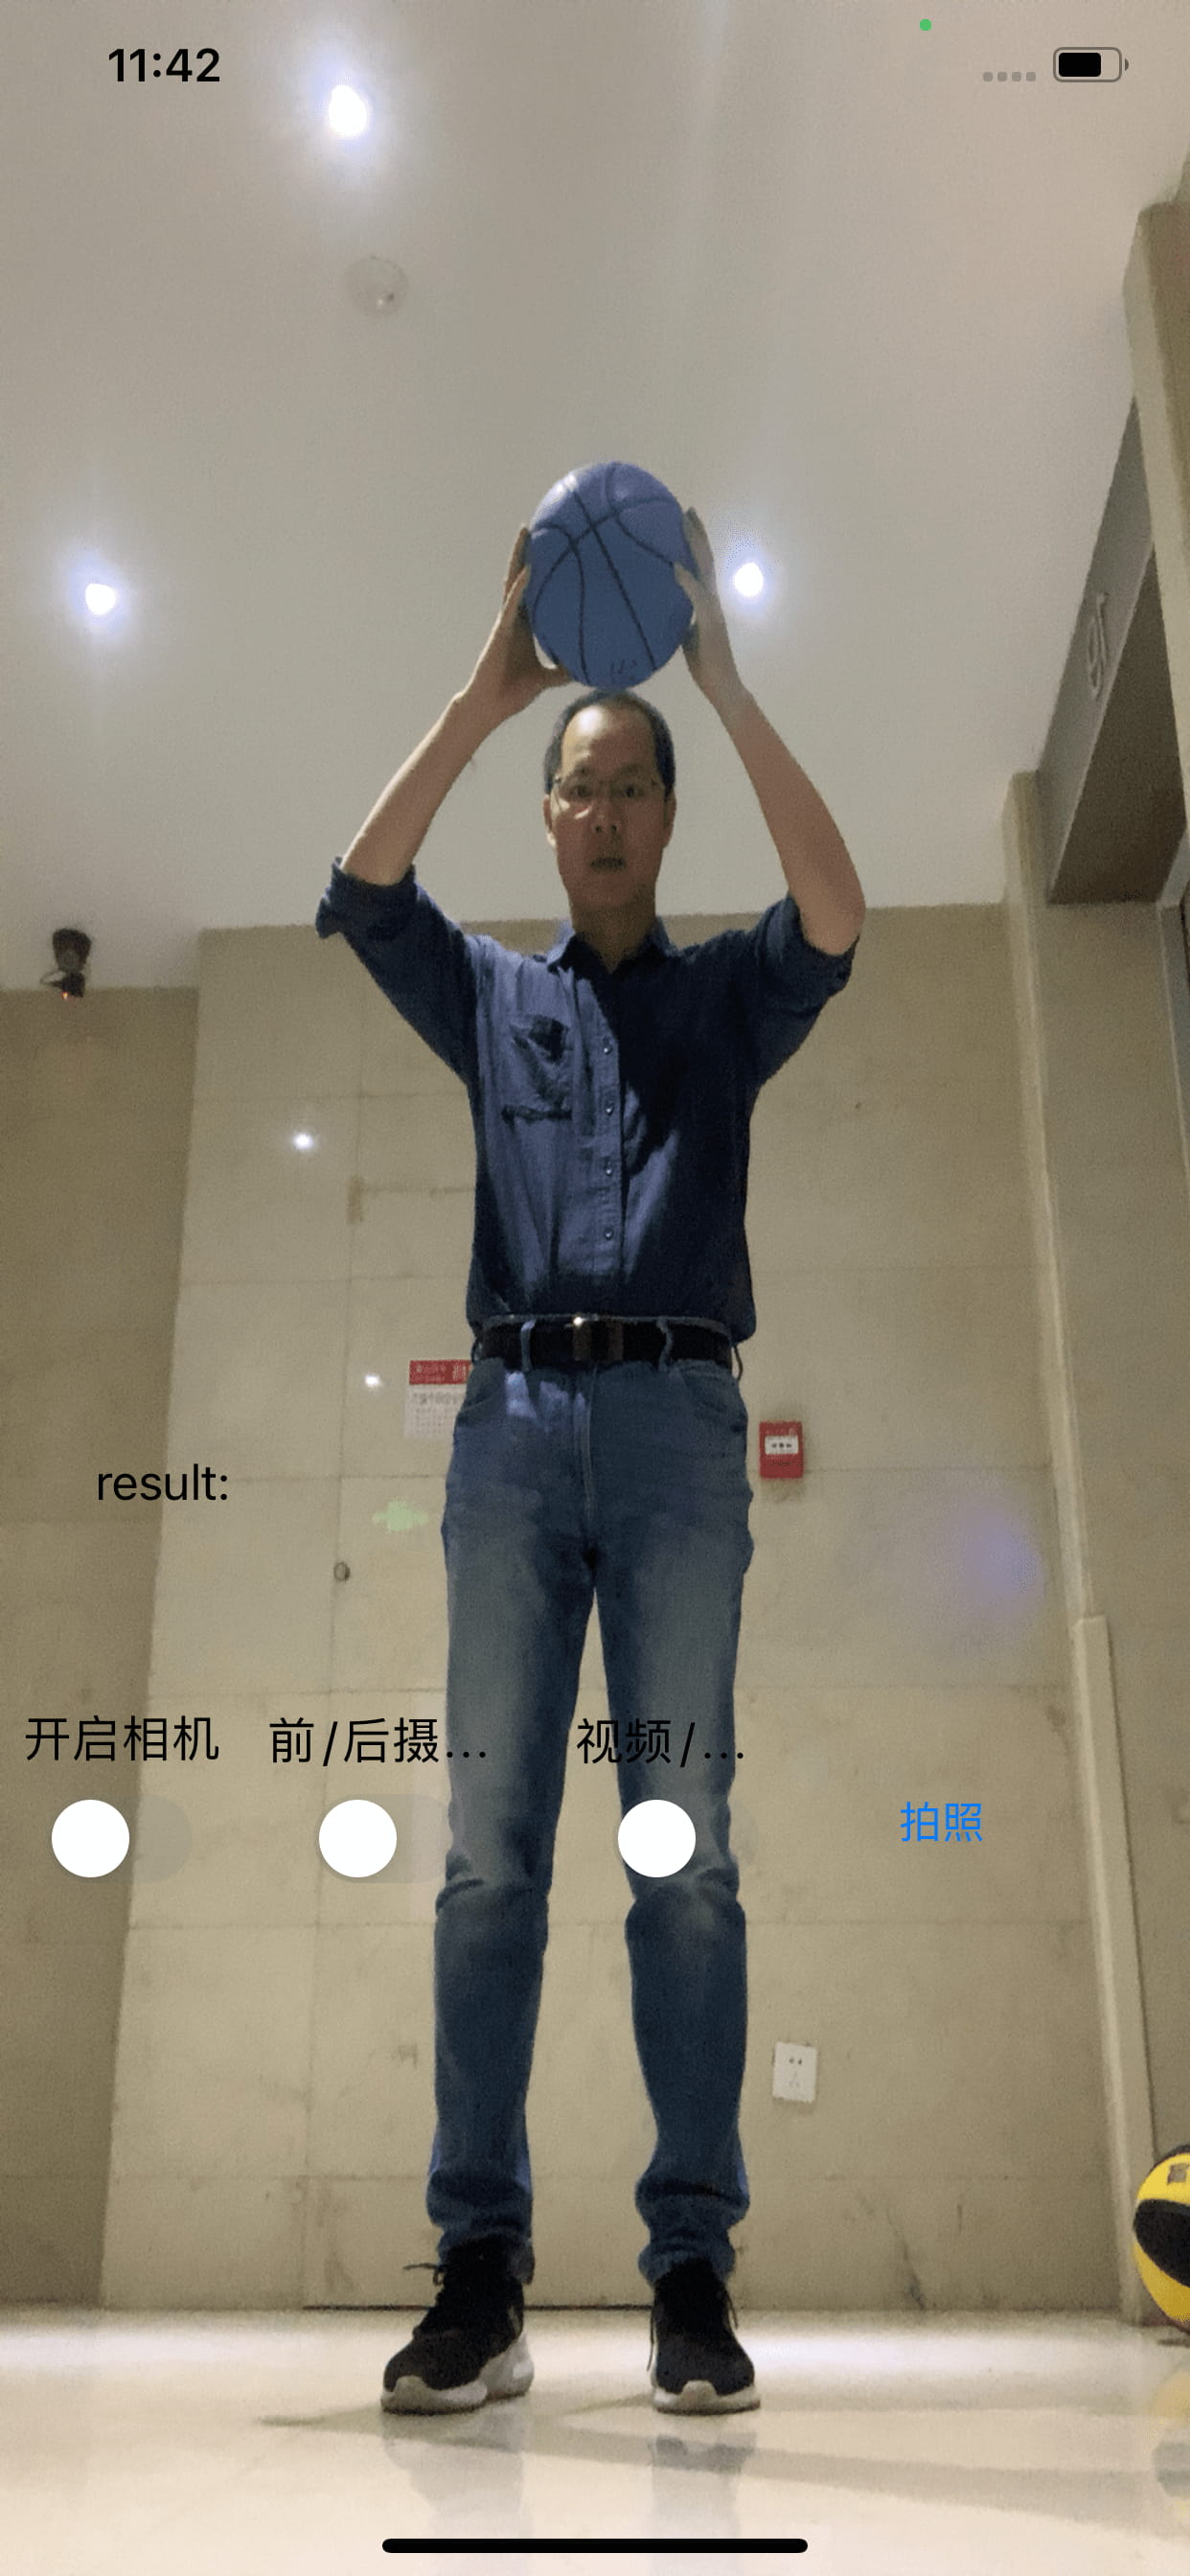ball: (521, 458, 695, 682)
